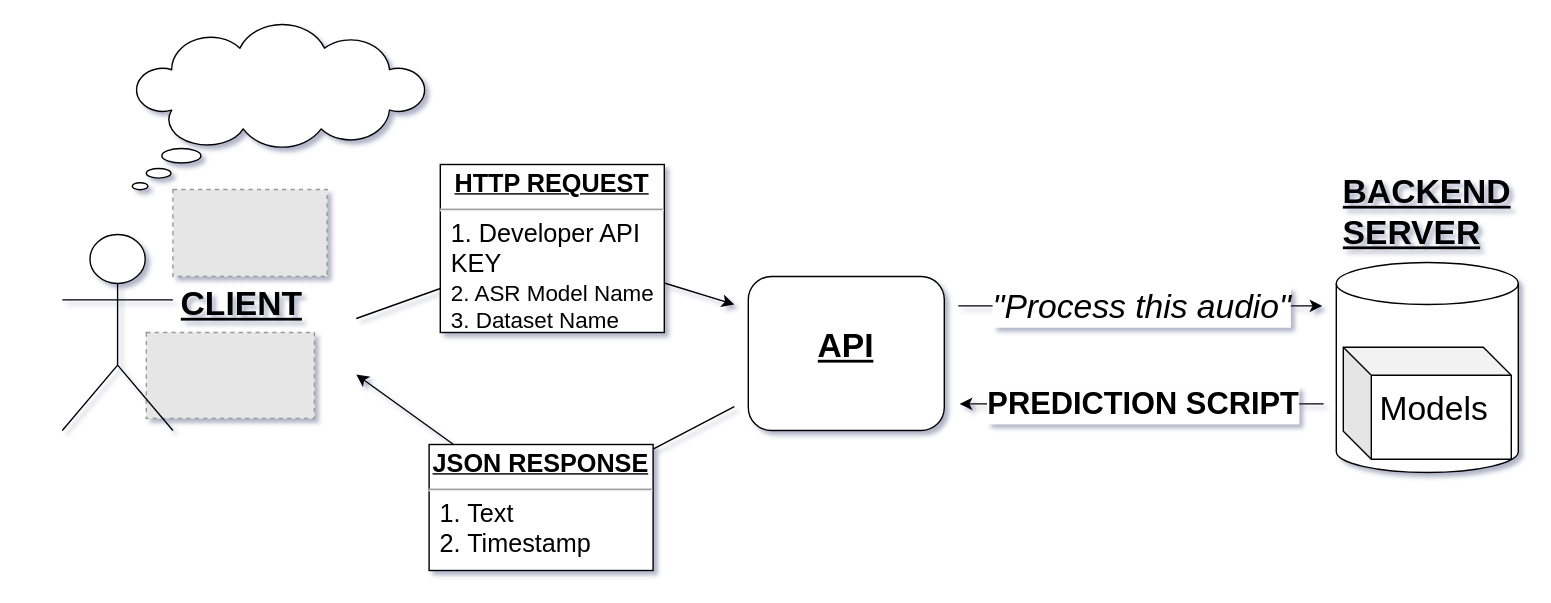
Some shapes in this 1551 by 603 pixel diagram are drawn without their labels. Grey dashed boxes stand in for pictures. Each missing label, with the box of its shape:
Frontend User: (61, 233, 173, 430)
I have an AUDIO!: (131, 23, 426, 190)
